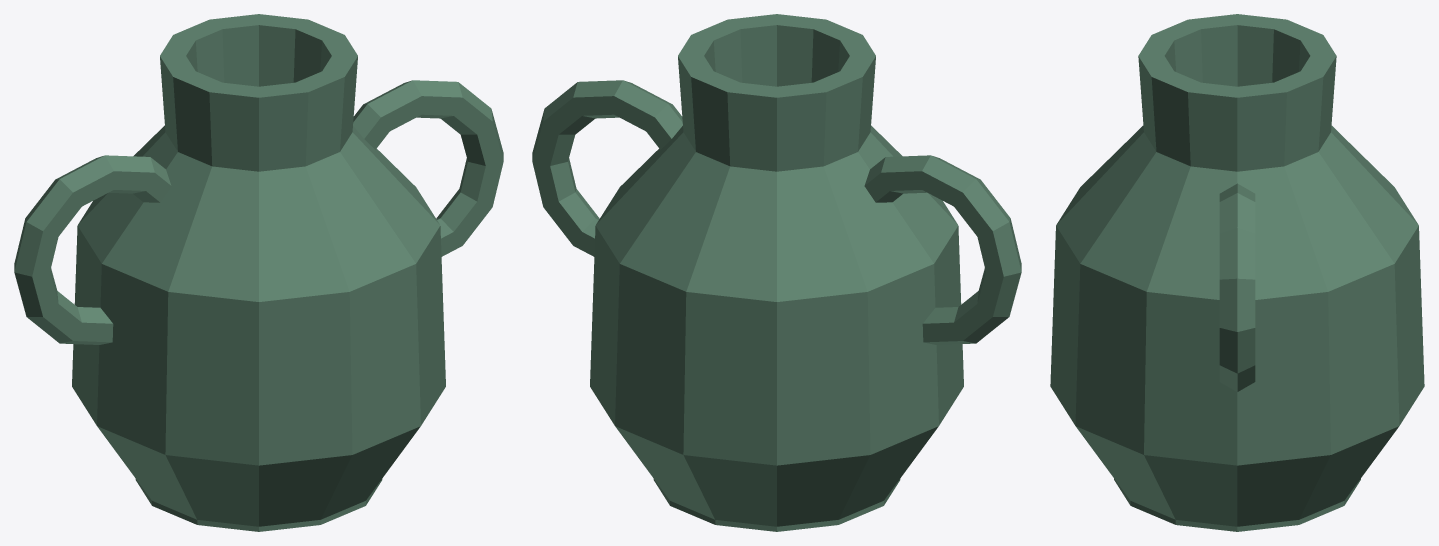
The model's file is handled-urn.glb.
3 views of the same model, side by side, from view 1: azimuth 30°, elevation 25°; view 2: azimuth 150°, elevation 25°; view 3: azimuth 270°, elevation 25° (orthographic).
Parts seen in each view (by area): view 1: handled-urn__body; view 2: handled-urn__body; view 3: handled-urn__body.
Boxes of the visible parts, <box> form: handled-urn__body: <box>14,14,503,531</box>; handled-urn__body: <box>532,14,1021,531</box>; handled-urn__body: <box>1050,14,1424,531</box>.
Bounding box in the file's own units: 0.604 × 0.5 × 0.4.
